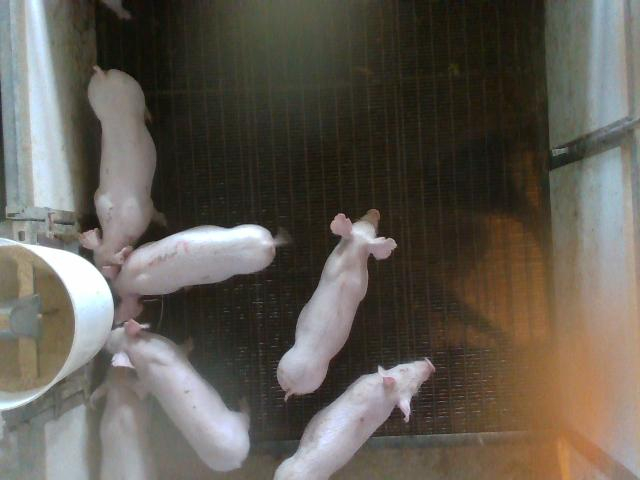pig-3: (102, 224, 281, 323)
